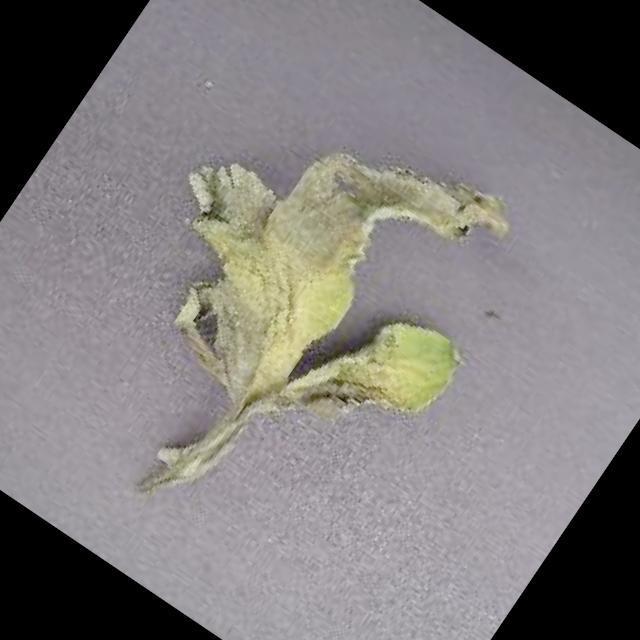Tomato healthy leaf: (106, 48, 554, 491)
